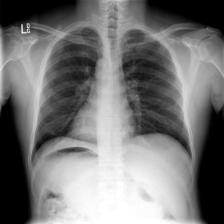normal: (27, 22, 195, 167)
